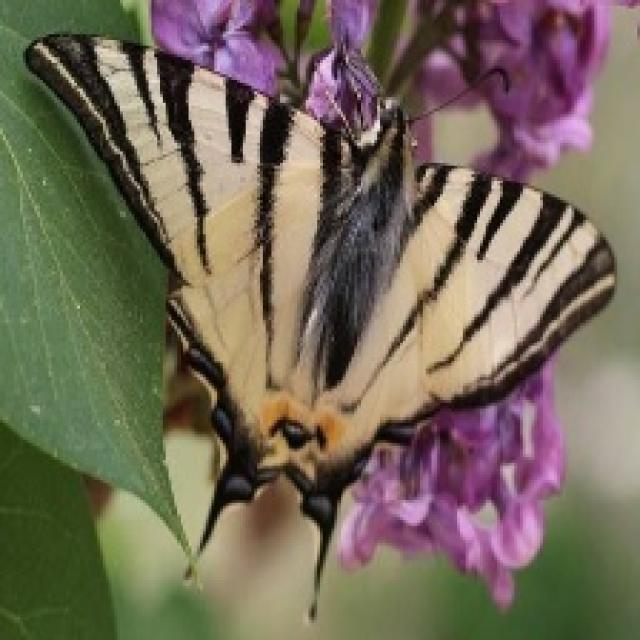butterfly: (20, 11, 617, 620)
